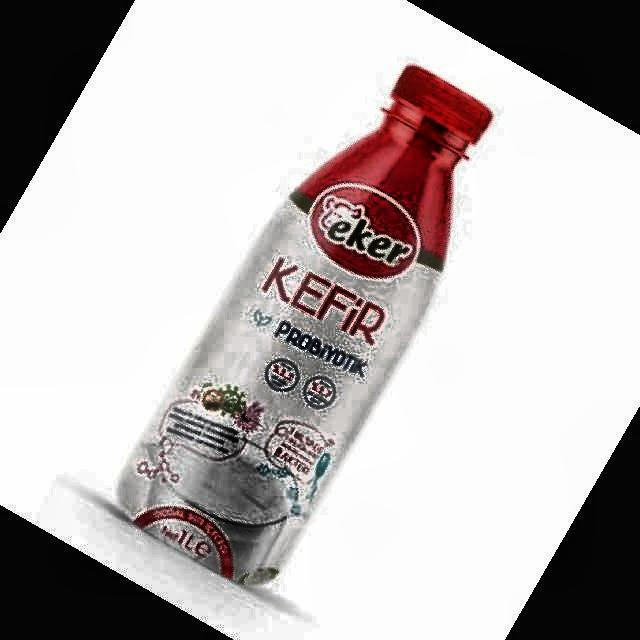plastic: (120, 65, 492, 583)
